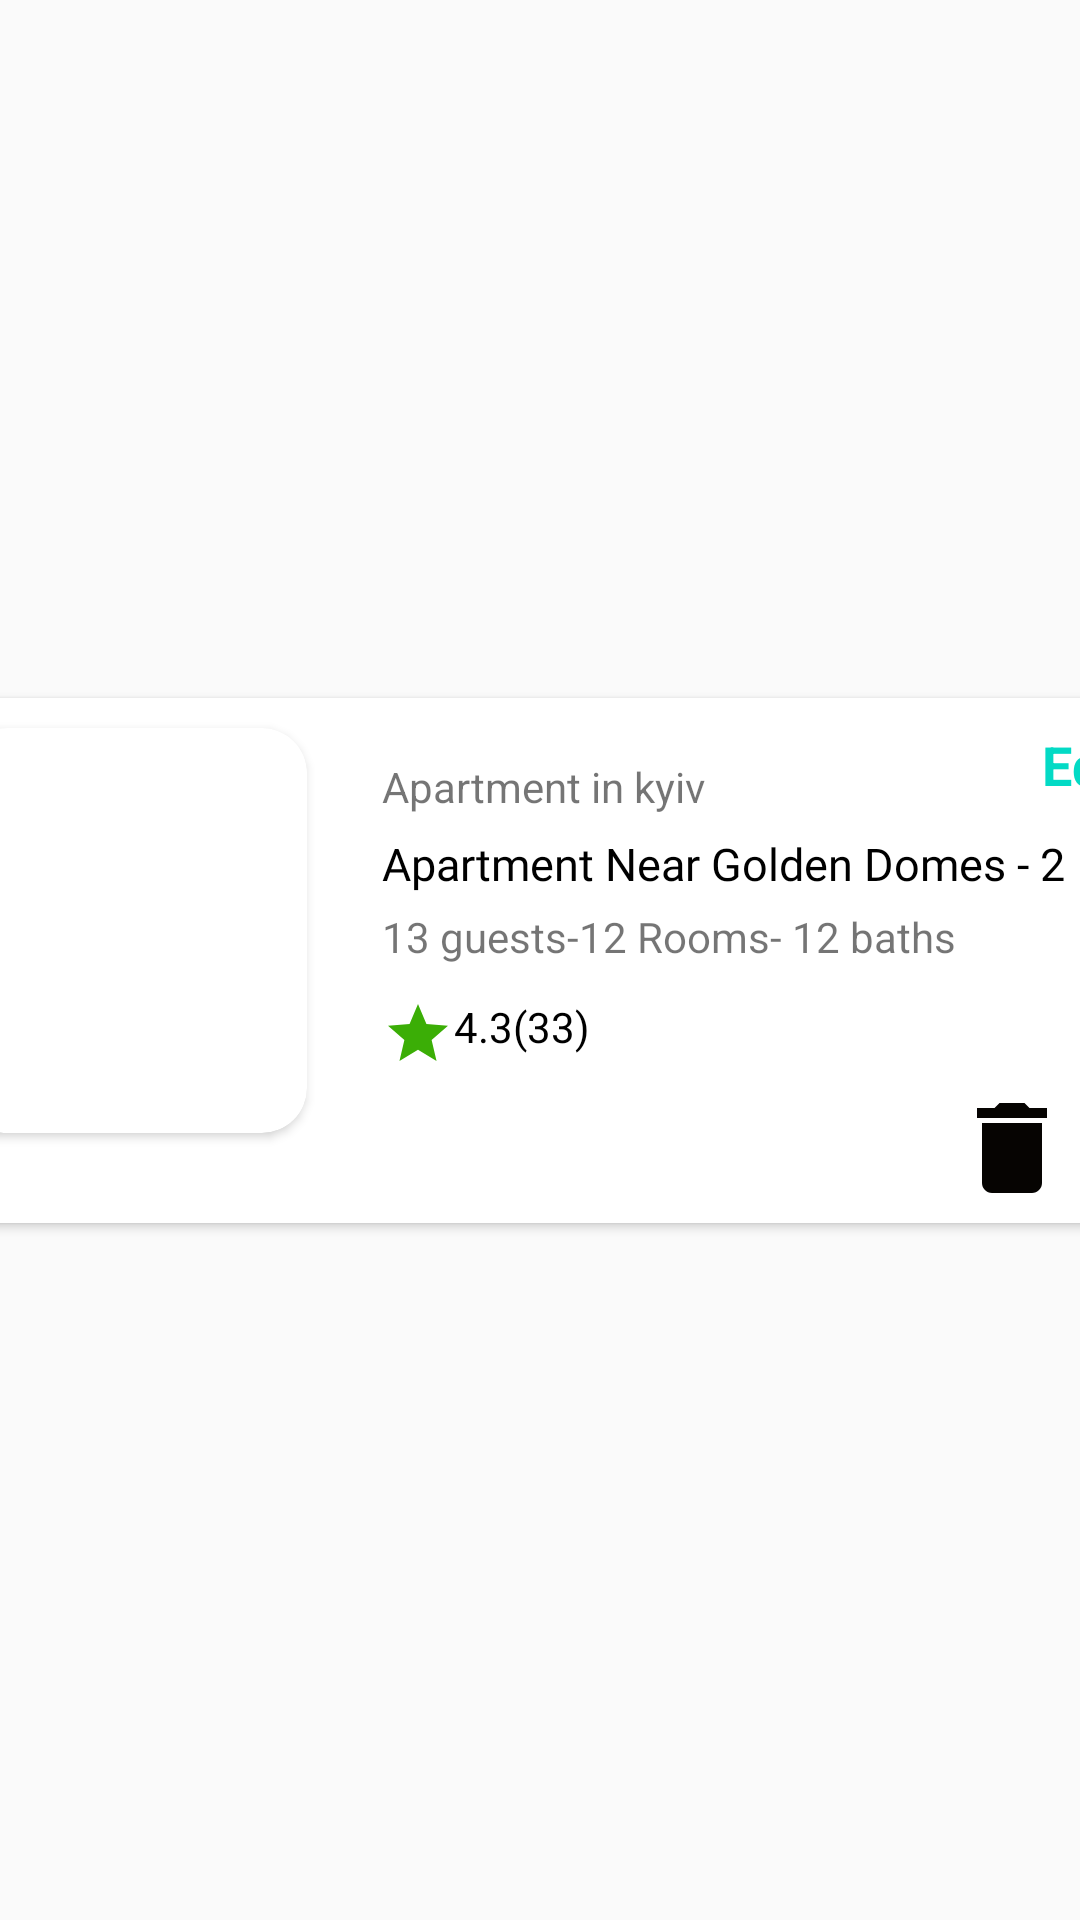

Icons on this 1080px x 1920px Android screen, each with its box as {"left": x1, "top": y1, "right": x2, "bottom": y2}:
delete: {"left": 977, "top": 1103, "right": 1047, "bottom": 1193}
